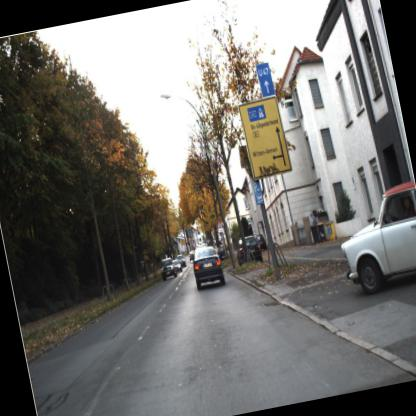danger: (214, 217, 225, 232)
